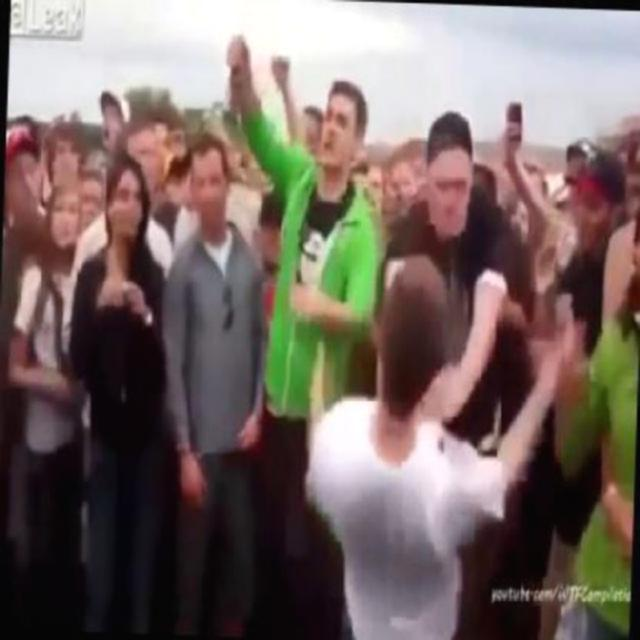fight: (314, 105, 530, 587)
